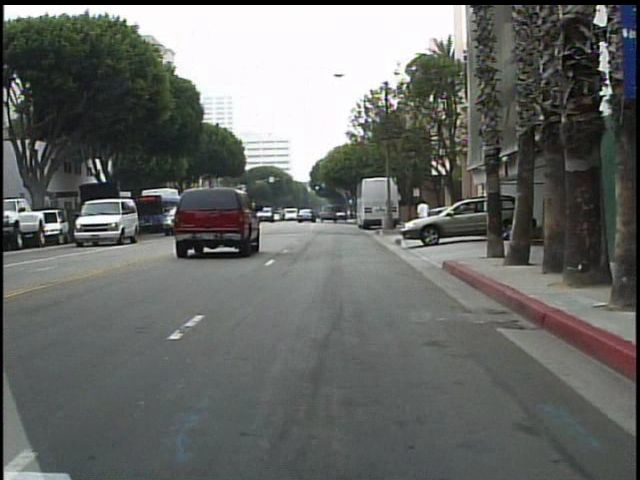person: (413, 195, 433, 239)
